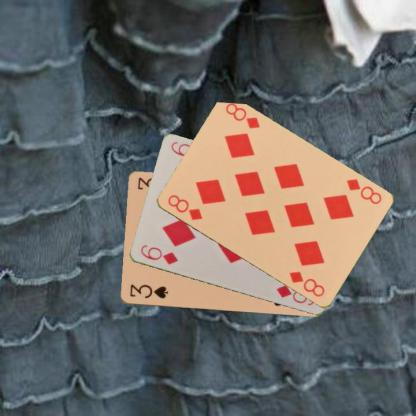3s: (127, 282, 169, 300)
6d: (138, 242, 179, 266)
8d: (343, 176, 383, 206), (165, 192, 203, 222)
